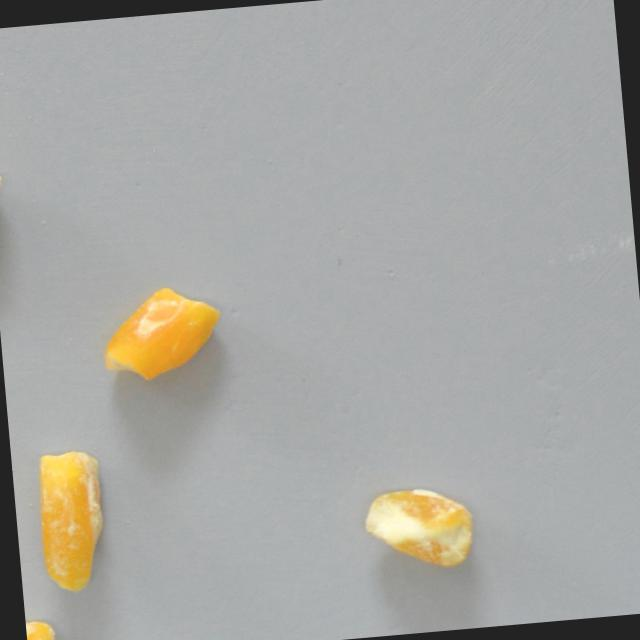pelicula: (98, 281, 226, 383), (34, 446, 109, 595), (360, 482, 475, 574), (0, 168, 10, 260), (25, 617, 58, 640)
